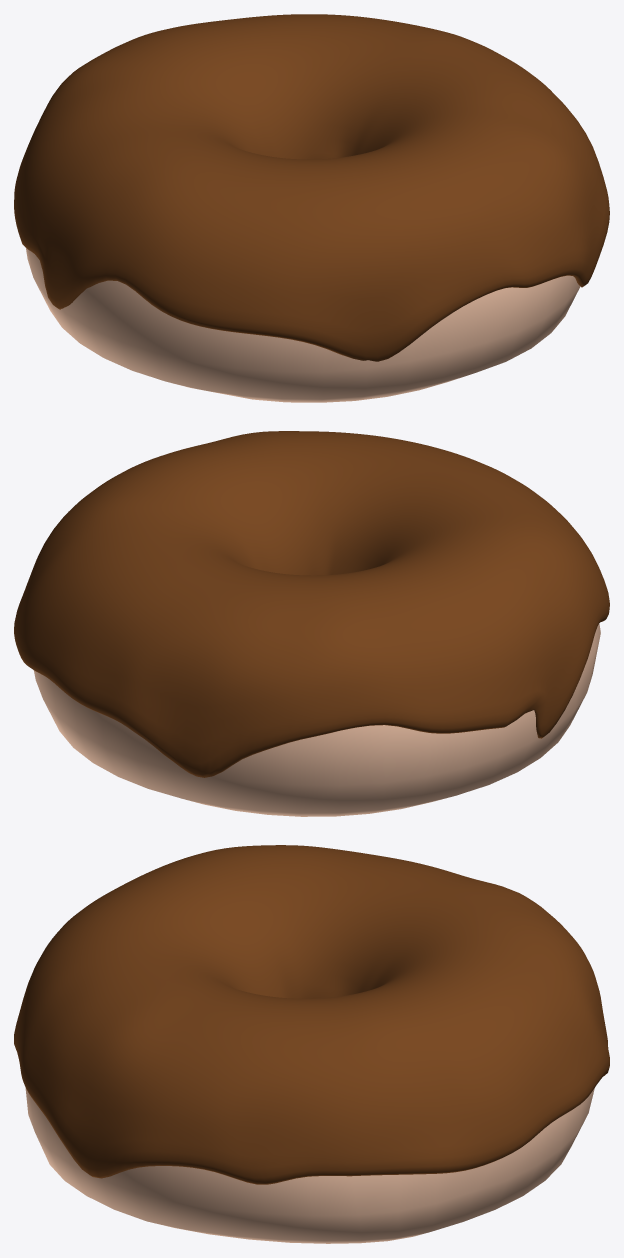
File: donut.glb
The picture shows the model from 3 angles, top to bottom: view 1: azimuth 30°, elevation 25°; view 2: azimuth 150°, elevation 25°; view 3: azimuth 270°, elevation 25°; orthographic projection. The views are drawn at different scales.
Visible parts, largest first — view 1: Icing, Donut; view 2: Icing, Donut; view 3: Icing, Donut.
Boxes of the visible parts, x1,y1,x2,y2 form: Icing: [14, 14, 609, 361]; Donut: [26, 248, 580, 402]; Icing: [14, 431, 609, 777]; Donut: [34, 623, 600, 816]; Icing: [14, 845, 609, 1184]; Donut: [25, 1088, 594, 1243].
Size of what is drawn, in the model's own units: 0.1021 by 0.0429 by 0.1018.
